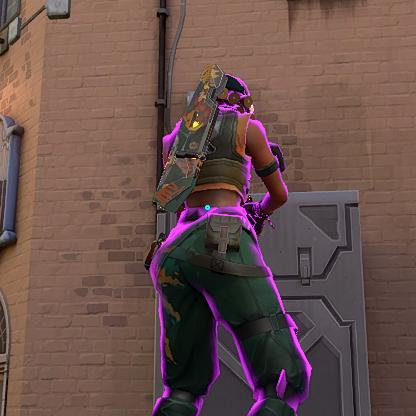enemyBody: (191, 134, 242, 217)
enemyHead: (221, 80, 252, 120)
